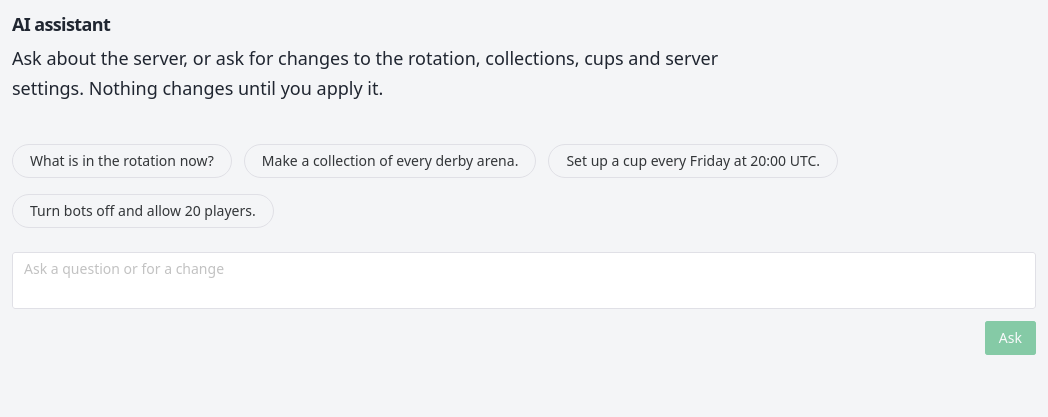
Scenario: AdminAssistantView › puts an unanswered question back in the box with the reason
Type "Who won?" into the text box named "Your question".
click(524, 281); type("Who won?")  # box x1=24 y1=252 x2=1024 y2=310
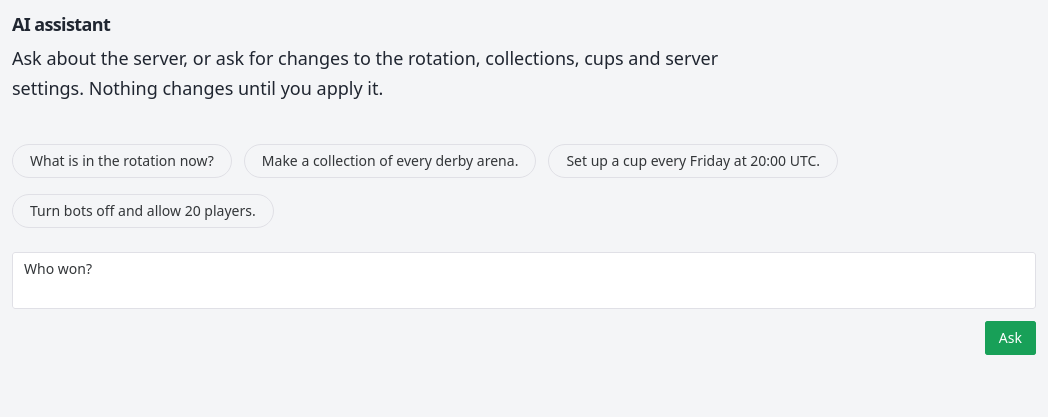
Submit the form, box x1=12 y1=252 x2=1036 y2=356
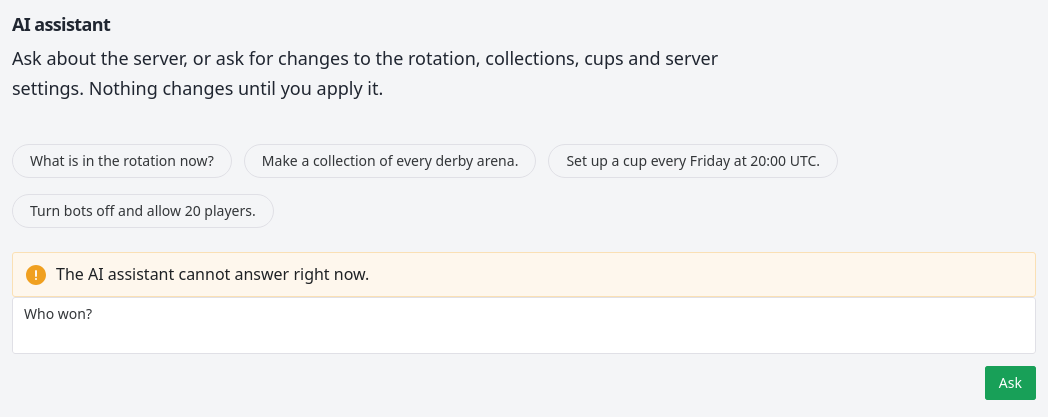
Now the text "The AI assistant cannot answer right now." is shown, box x1=56 y1=263 x2=369 y2=285
